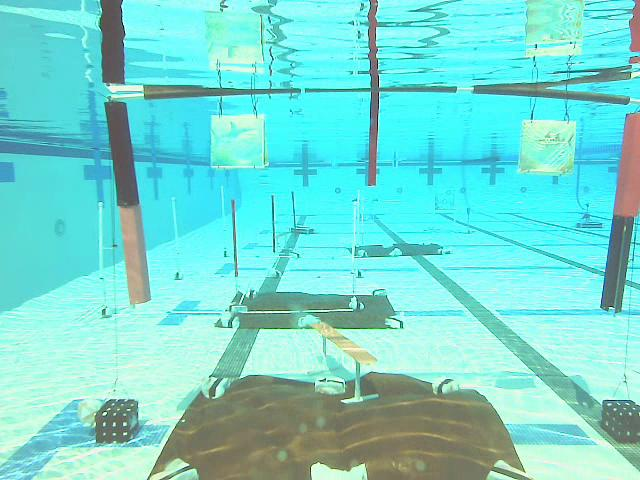black_poster: (229, 199, 242, 279), (270, 196, 278, 252), (290, 191, 296, 227)
divider: (367, 91, 379, 188)
left_gate_poster: (104, 102, 153, 306)
right_gate_poster: (598, 114, 639, 312)
shark: (211, 115, 266, 168)
swordfish: (521, 124, 577, 175)
white_poster: (95, 203, 105, 276), (169, 199, 181, 259), (219, 186, 226, 230)
